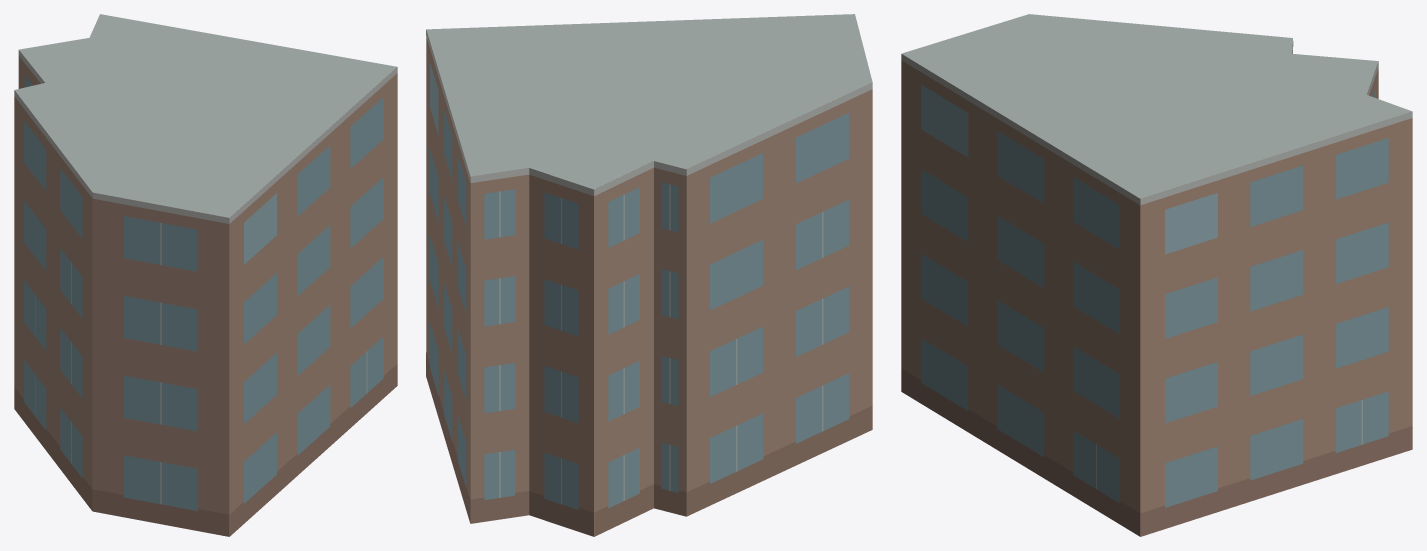
File: survey-upis-32744241.glb
3 views of the same model, side by side, from view 1: azimuth 30°, elevation 25°; view 2: azimuth 150°, elevation 25°; view 3: azimuth 270°, elevation 25° (orthographic). The views are drawn at different scales.
Visible parts, largest first — view 1: survey-upis-32744241.tmp; view 2: survey-upis-32744241.tmp; view 3: survey-upis-32744241.tmp.
Part boxes in pixels (<box>): survey-upis-32744241.tmp: <box>14,14,397,536</box>; survey-upis-32744241.tmp: <box>426,14,872,536</box>; survey-upis-32744241.tmp: <box>901,14,1412,536</box>.
Size of the model in its own units: 15.02 by 12.8 by 17.56.
